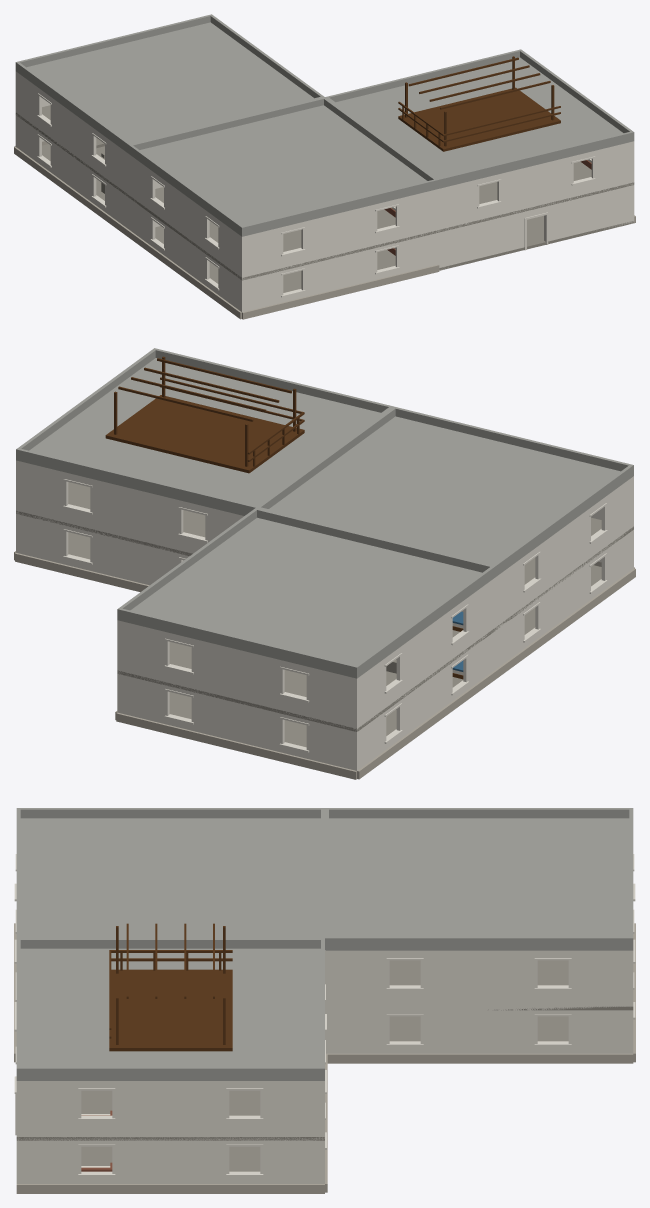
Rendered from villa_white.glb.
3 renders of one model, top to bottom at view 1: azimuth 30°, elevation 25°; view 2: azimuth 150°, elevation 25°; view 3: azimuth 270°, elevation 25°, orthographic. The views are drawn at different scales.
Parts seen in each view (by area): view 1: villa_white; view 2: villa_white; view 3: villa_white.
Part boxes in pixels (left/top/right/bottom): villa_white: left=14, top=14, right=635, bottom=319; villa_white: left=14, top=348, right=635, bottom=779; villa_white: left=14, top=808, right=635, bottom=1193.
Bounding box in the file's own units: 30.26 × 8.99 × 30.26.
